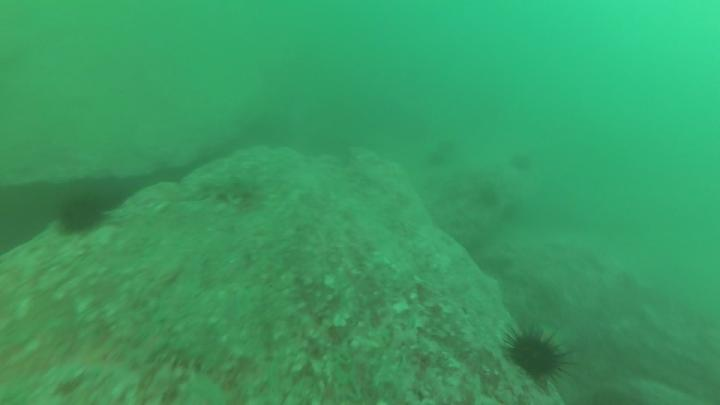echinus: (499, 319, 575, 393), (51, 193, 109, 237), (475, 180, 505, 210), (507, 152, 535, 174)
holothurian: (149, 334, 246, 392), (197, 173, 266, 205)
